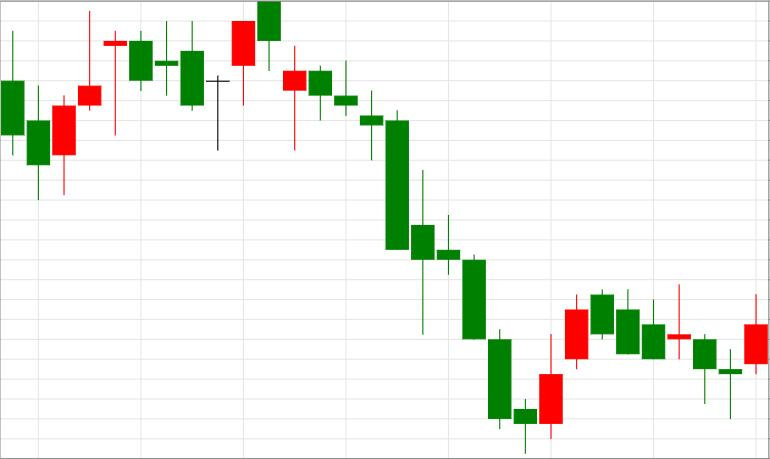morning_star_rise: (591, 284, 768, 419)
